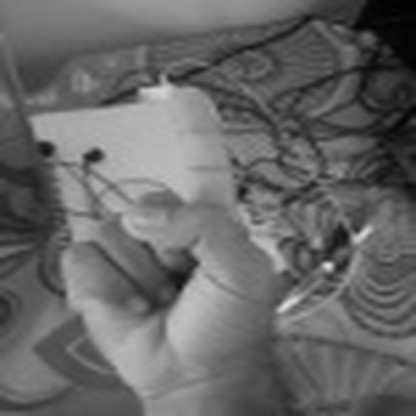d: (59, 78, 282, 395)
